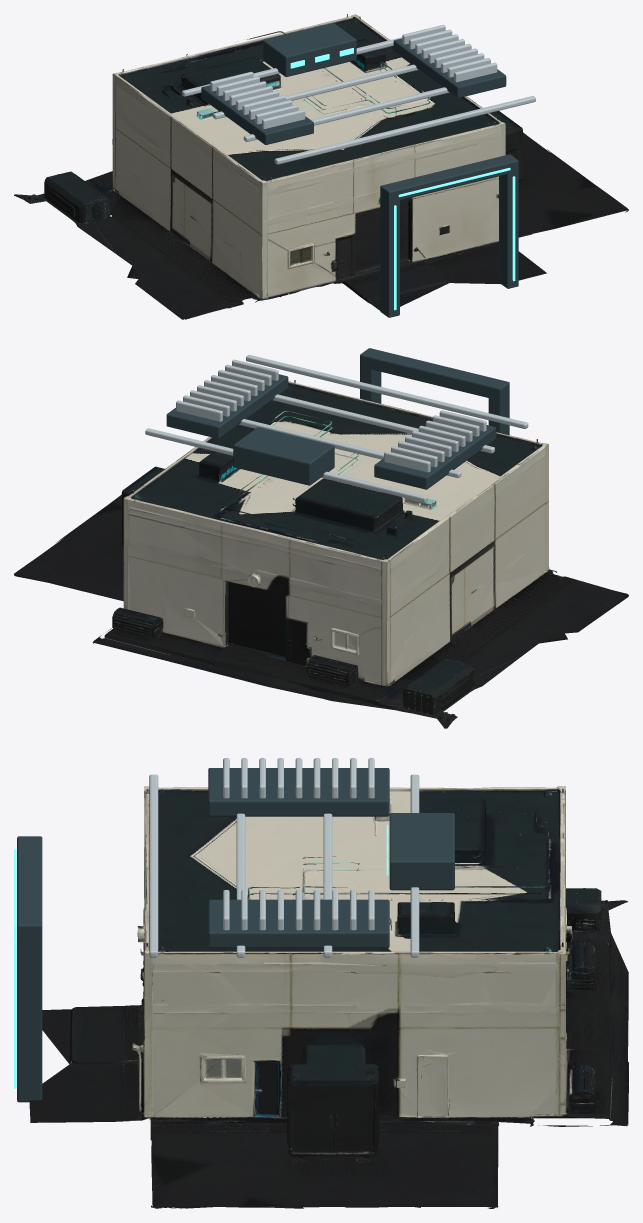
The model's file is engineering-exterior.glb.
The picture shows the model from 3 angles, top to bottom: view 1: azimuth 30°, elevation 25°; view 2: azimuth 150°, elevation 25°; view 3: azimuth 270°, elevation 25°; orthographic projection. The views are drawn at different scales.
Parts seen in each view (by area): view 1: Mesh_0, Roof equipment base, Airlock graphite, Cooling fins, Roof service rails, Airlock cyan; view 2: Mesh_0, Roof equipment base, Cooling fins, Roof service rails, Airlock graphite; view 3: Mesh_0, Roof equipment base, Airlock graphite, Cooling fins, Roof service rails, Airlock cyan.
Boxes of the visible parts, x1,y1,x2,y2 form: Mesh_0: (14,14,628,319); Roof equipment base: (201,23,506,144); Airlock graphite: (380,154,518,317); Cooling fins: (210,25,497,128); Roof service rails: (182,37,535,164); Airlock cyan: (394,167,515,310); Mesh_0: (14,380,628,728); Roof equipment base: (166,374,496,489); Cooling fins: (176,359,486,472); Roof service rails: (145,354,528,502); Airlock graphite: (360,348,509,435); Mesh_0: (29,786,628,1208); Roof equipment base: (208,768,454,948); Airlock graphite: (17,836,42,1102); Cooling fins: (223,758,374,930); Roof service rails: (149,774,419,957); Airlock cyan: (14,849,16,1088).
Size of the model in its own units: 10.02 by 3.37 by 8.48.
Materials: 7 (1 with a texture image).
